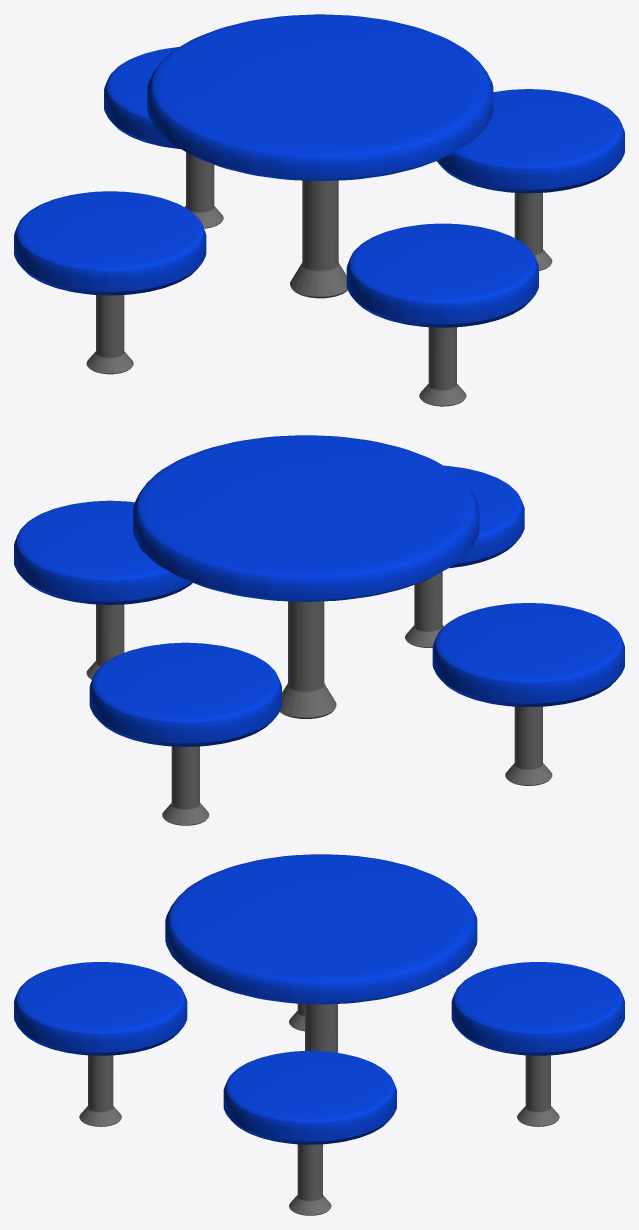
File: hawker table.fbx
3 renders of one model, top to bottom at view 1: azimuth 30°, elevation 25°; view 2: azimuth 150°, elevation 25°; view 3: azimuth 270°, elevation 25°, orthographic. The views are drawn at different scales.
Visible parts, largest first — view 1: pCylinder1, pCylinder4, pCylinder8, pCylinder13, pCylinder2, pCylinder9, pCylinder11, pCylinder12, pCylinder10, pCylinder3; view 2: pCylinder1, pCylinder9, pCylinder4, pCylinder13, pCylinder2, pCylinder8, pCylinder10, pCylinder12, pCylinder11, pCylinder3; view 3: pCylinder1, pCylinder13, pCylinder8, pCylinder9, pCylinder10, pCylinder11, pCylinder3, pCylinder2.
Part boxes in pixels (<box>): pCylinder1: <box>147,14,493,180</box>; pCylinder4: <box>14,191,206,295</box>; pCylinder8: <box>346,223,538,327</box>; pCylinder13: <box>437,89,624,193</box>; pCylinder2: <box>290,180,347,298</box>; pCylinder9: <box>104,47,180,148</box>; pCylinder11: <box>419,327,466,406</box>; pCylinder12: <box>86,295,133,374</box>; pCylinder10: <box>184,152,223,228</box>; pCylinder3: <box>514,192,552,270</box>; pCylinder1: <box>133,435,479,601</box>; pCylinder9: <box>89,642,281,746</box>; pCylinder4: <box>432,603,624,706</box>; pCylinder13: <box>14,500,192,604</box>; pCylinder2: <box>279,601,336,718</box>; pCylinder8: <box>444,465,524,568</box>; pCylinder10: <box>162,746,209,825</box>; pCylinder12: <box>505,706,552,785</box>; pCylinder11: <box>405,572,443,647</box>; pCylinder3: <box>86,604,124,679</box>; pCylinder1: <box>165,854,477,1004</box>; pCylinder13: <box>223,1051,396,1144</box>; pCylinder8: <box>14,962,187,1055</box>; pCylinder9: <box>451,962,624,1055</box>; pCylinder10: <box>517,1055,559,1126</box>; pCylinder11: <box>79,1055,121,1126</box>; pCylinder3: <box>289,1144,331,1215</box>; pCylinder2: <box>305,1004,337,1052</box>.
Size of the model in its own units: 17.13 by 6.28 by 17.18.
